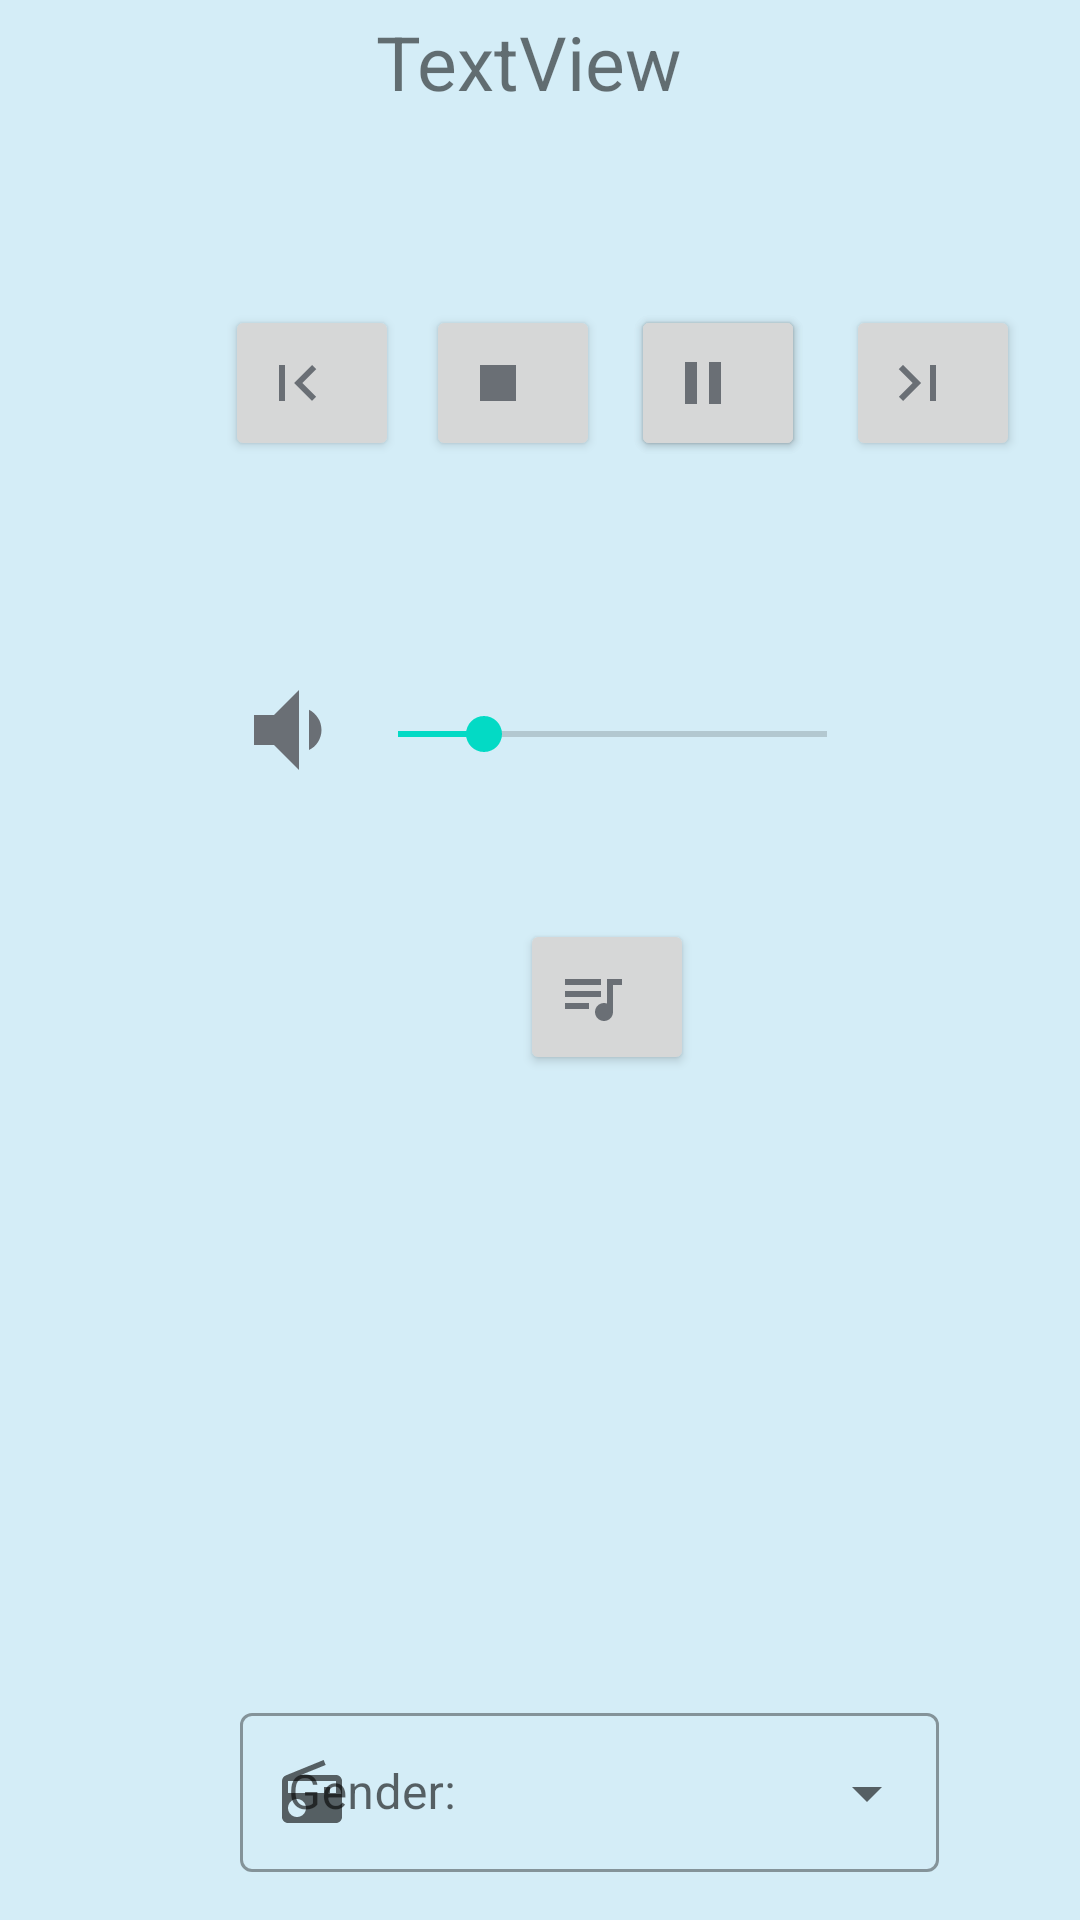

Icons on this 1080×1920 Android screen, each with the point to tap as point (x, y):
volume down: point (288, 730)
